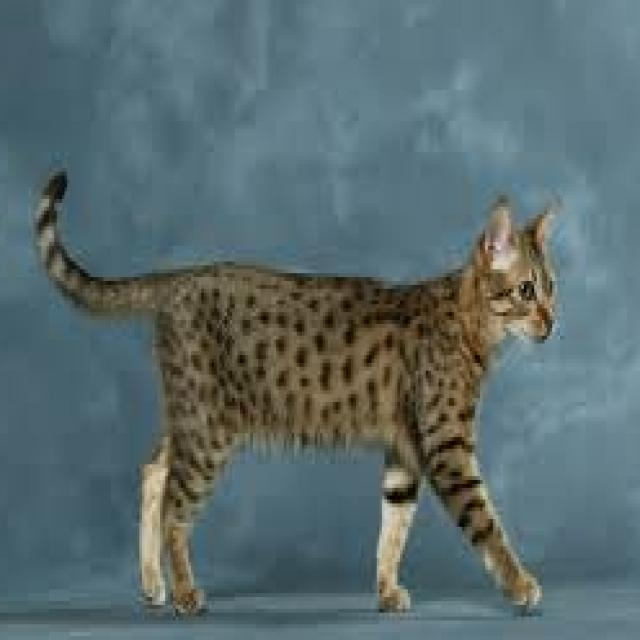Egyptian Mau: (32, 166, 567, 626)
